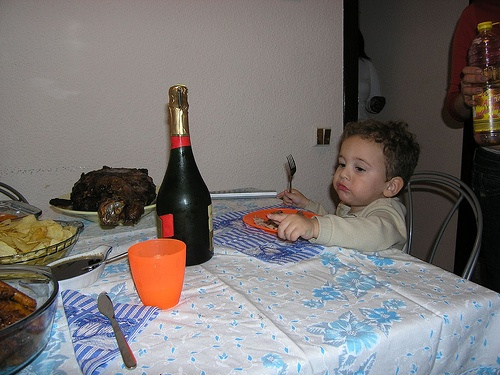head: (331, 120, 419, 209)
person: (273, 115, 422, 254), (438, 1, 499, 293)
